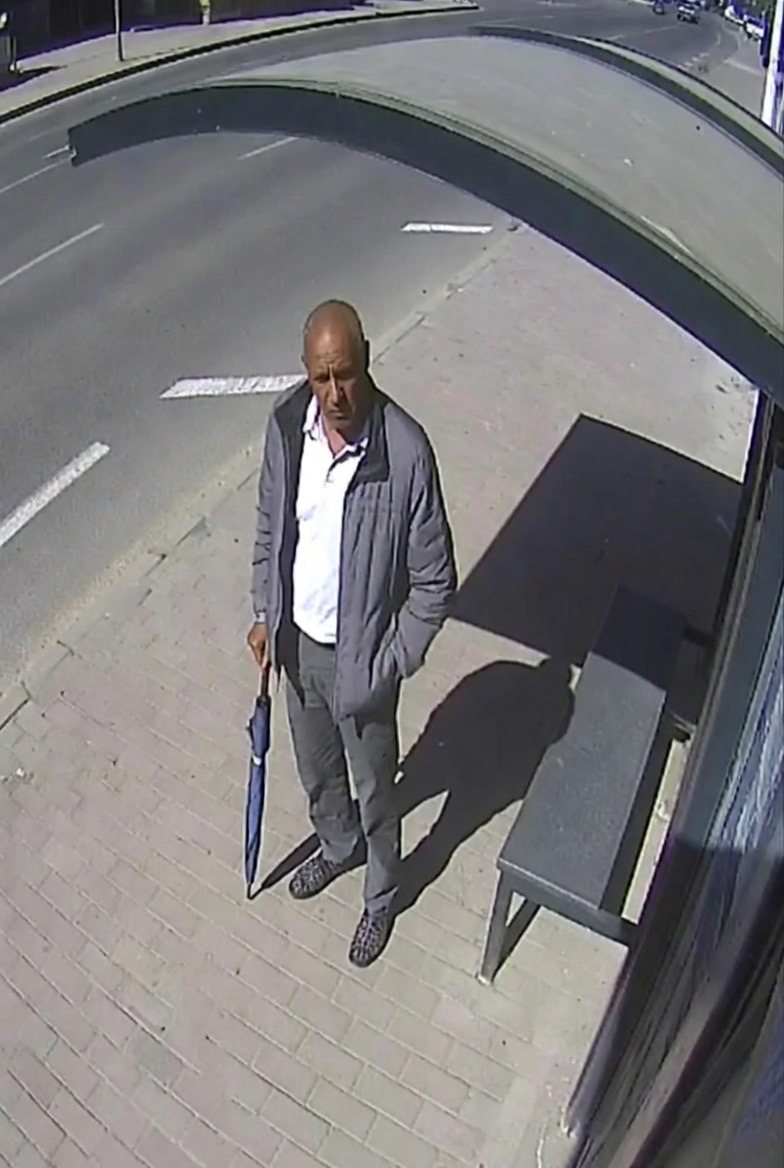person: (245, 298, 459, 969)
umbrella: (243, 660, 275, 898)
